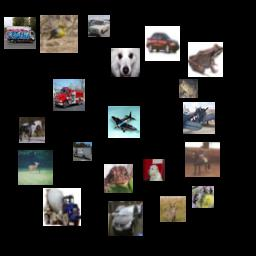airplane: (108, 106, 140, 138), (183, 102, 215, 134)
automobile: (145, 26, 180, 61), (108, 201, 143, 236), (88, 15, 110, 37)
bird: (40, 15, 78, 53), (192, 186, 214, 208)
deer: (18, 150, 53, 185), (160, 196, 186, 222)
dog: (111, 48, 140, 77), (143, 159, 165, 181)
frog: (188, 42, 223, 77), (104, 164, 133, 193), (179, 79, 198, 98)
truck: (43, 188, 81, 226), (53, 79, 85, 111), (4, 17, 36, 49), (73, 142, 92, 161)
